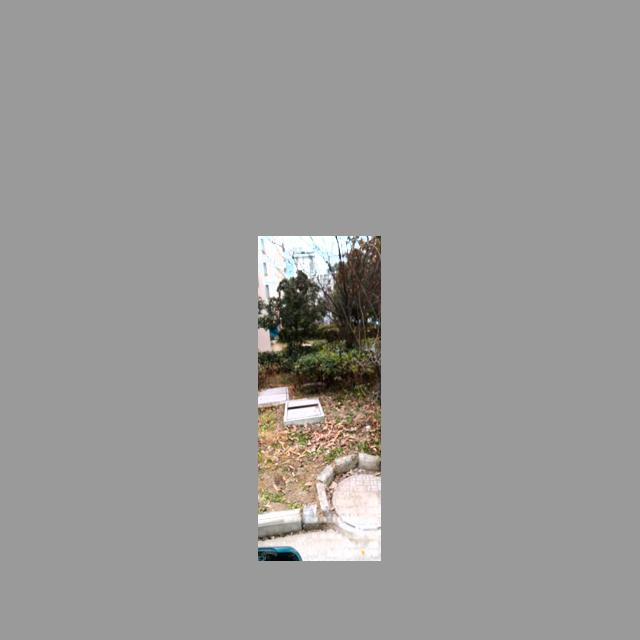good: (328, 473, 381, 533), (258, 384, 290, 409)
uncovered: (284, 396, 326, 423)
